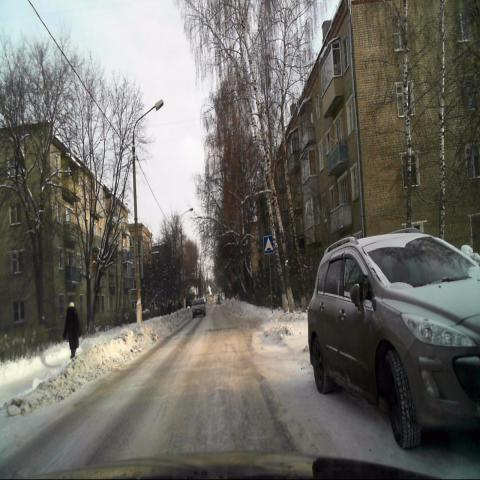5_20: (263, 235, 274, 254)
